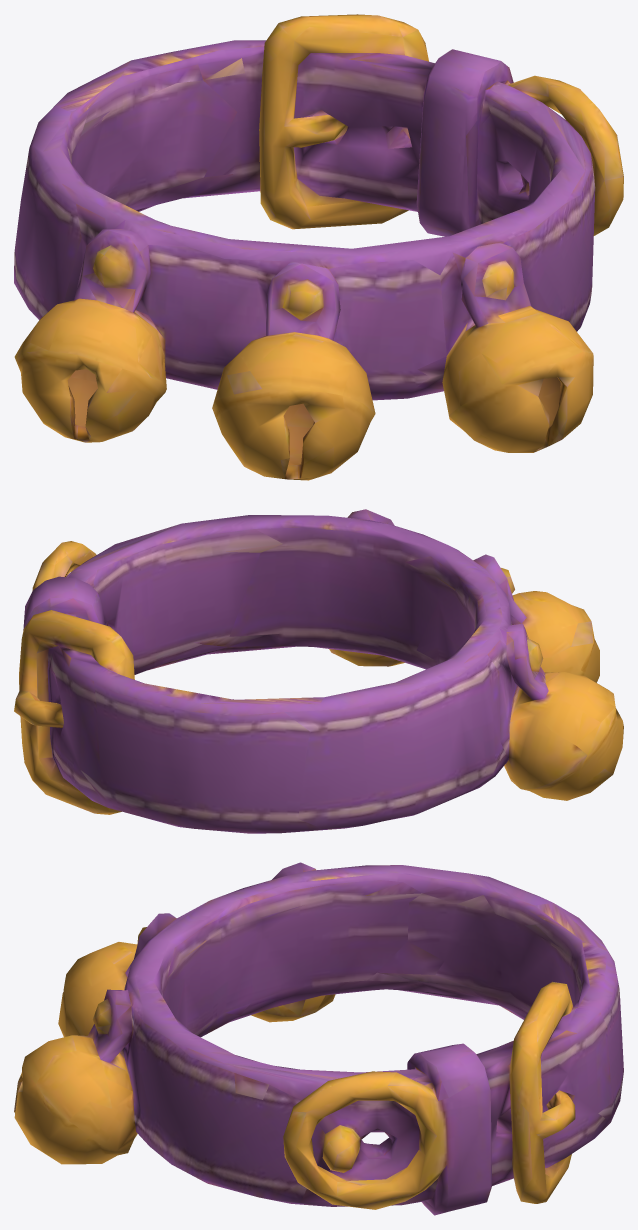
The picture shows the model from 3 angles, top to bottom: view 1: azimuth 30°, elevation 25°; view 2: azimuth 150°, elevation 25°; view 3: azimuth 270°, elevation 25°; orthographic projection. The views are drawn at different scales.
Visible parts, largest first — view 1: bell-collar; view 2: bell-collar; view 3: bell-collar.
Part boxes in pixels (x1,y1,x2,y2): bell-collar: (14,14,623,480); bell-collar: (14,509,623,833); bell-collar: (14,862,623,1215).
Bounding box in the file's own units: 0.3121 × 0.1091 × 0.3058.
1 material, 1 textured.
